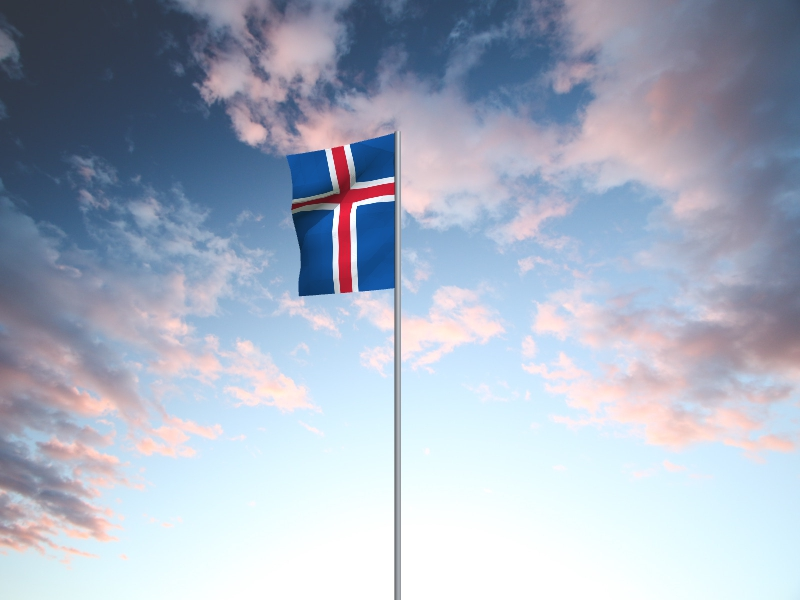is: (286, 134, 395, 298)
